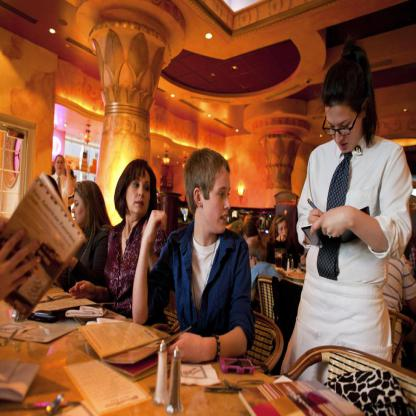face: (204, 177, 231, 234), (327, 113, 361, 153), (127, 174, 151, 217), (72, 194, 87, 229), (248, 235, 257, 255), (279, 225, 289, 241), (56, 159, 64, 174)
